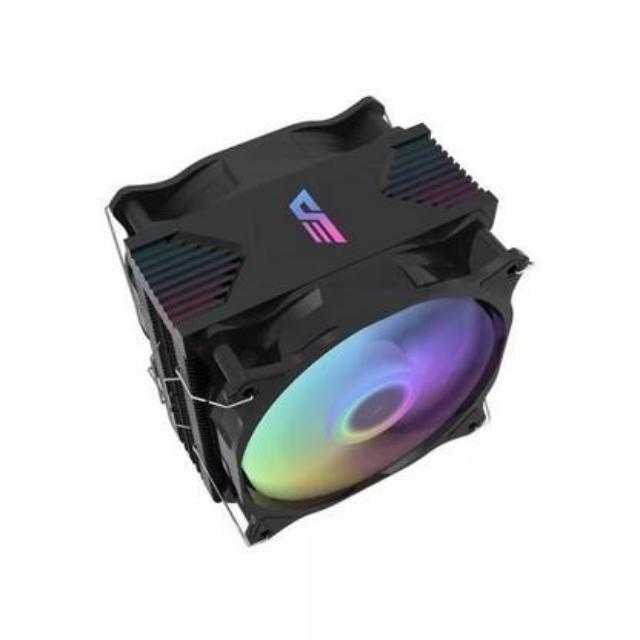CPU_Fan: (100, 94, 532, 551)
